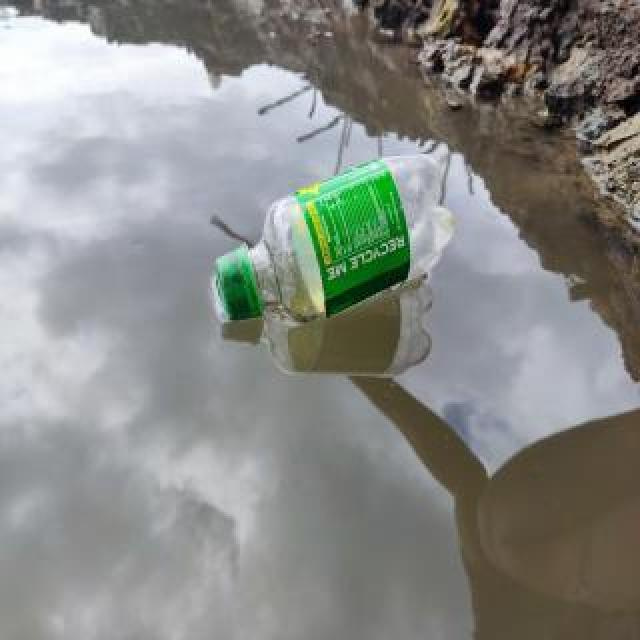bottle: (208, 143, 458, 333)
